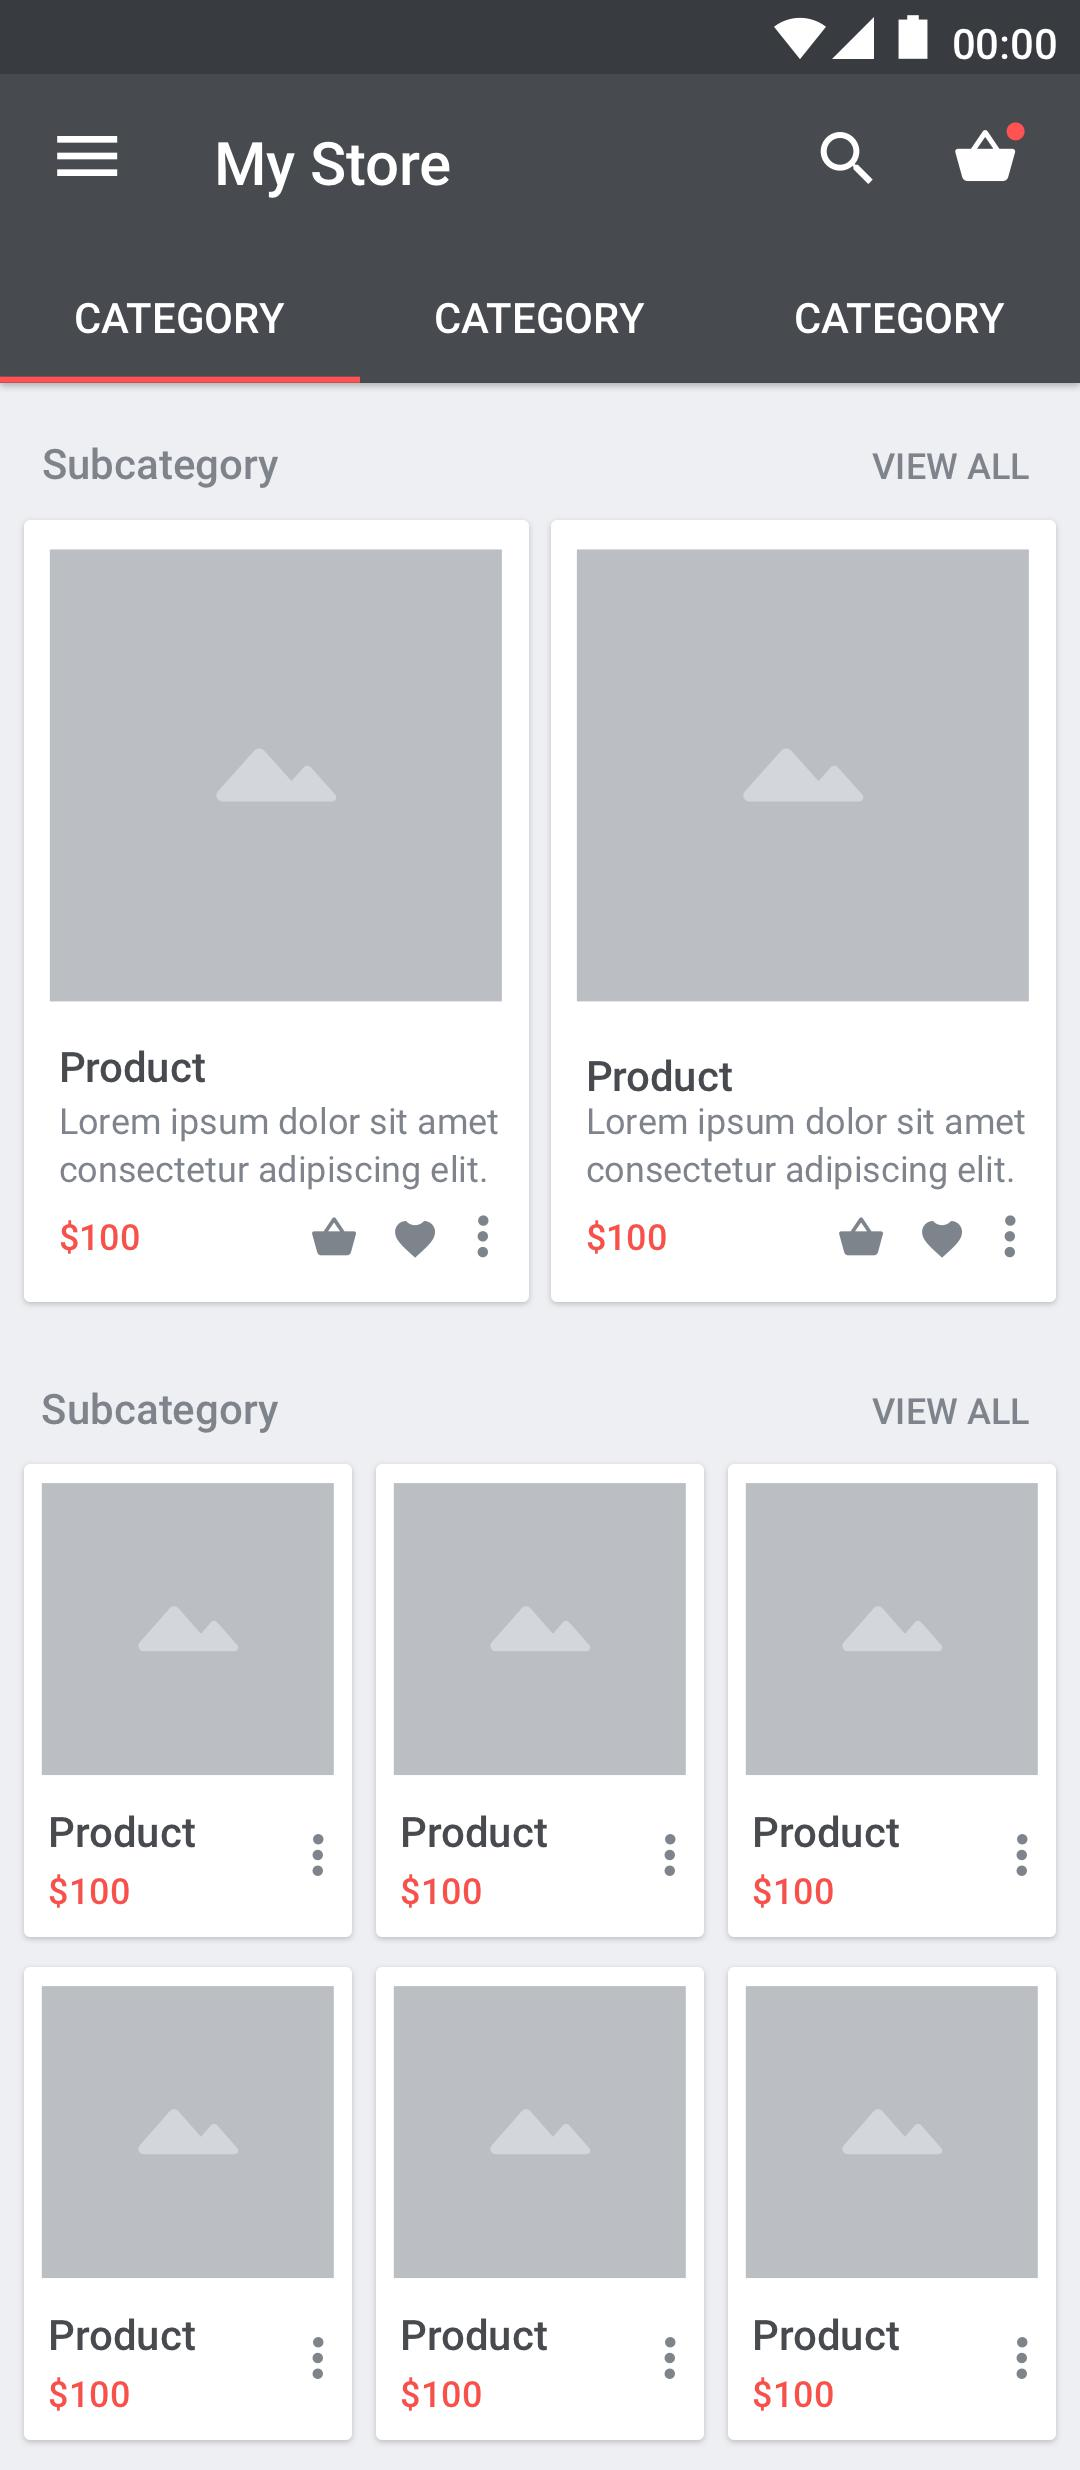Card: (549, 520, 1058, 1304), (24, 518, 531, 1304), (24, 1966, 354, 2442), (375, 1966, 705, 2442), (375, 1463, 705, 1939), (24, 1463, 354, 1939), (727, 1964, 1056, 2442), (727, 1463, 1056, 1939)
Icon: (952, 117, 1026, 183), (817, 128, 875, 191), (54, 131, 123, 183), (916, 1218, 967, 1262), (310, 1215, 357, 1259), (836, 1216, 885, 1257), (390, 1218, 438, 1259), (1014, 1829, 1033, 1879), (1012, 2333, 1030, 2383), (475, 1210, 491, 1262), (663, 2331, 679, 2382), (312, 1827, 326, 1881), (1003, 1210, 1017, 1260), (663, 1829, 677, 1879), (312, 2331, 324, 2382)
Image: (50, 550, 502, 1003), (578, 550, 1030, 1003), (745, 1482, 1039, 1775), (394, 1986, 686, 2279), (43, 1482, 335, 1775), (394, 1482, 686, 1775), (43, 1986, 335, 2278), (746, 1986, 1037, 2278)
Multi_Tab: (2, 228, 1080, 384)
Text: (57, 1103, 501, 1192), (584, 1104, 1026, 1191), (213, 135, 453, 202), (43, 443, 280, 490), (39, 1393, 277, 1437), (72, 296, 285, 339), (790, 295, 1008, 336), (435, 298, 647, 336), (751, 1812, 904, 1852), (586, 1055, 735, 1096), (57, 1048, 208, 1087), (47, 1812, 197, 1851), (46, 2316, 195, 2355), (749, 2316, 904, 2353), (398, 2316, 549, 2353), (871, 449, 1031, 484), (871, 1394, 1030, 1429), (400, 1813, 549, 1849), (57, 1215, 143, 1255), (397, 1870, 486, 1909), (44, 1871, 131, 1909), (49, 2372, 131, 2412), (397, 2374, 482, 2412), (749, 2374, 833, 2412), (583, 1219, 668, 1255), (753, 1871, 834, 1908)
Toolbar: (2, 77, 1080, 228)
UpperTaskBar: (2, 2, 1080, 77)
